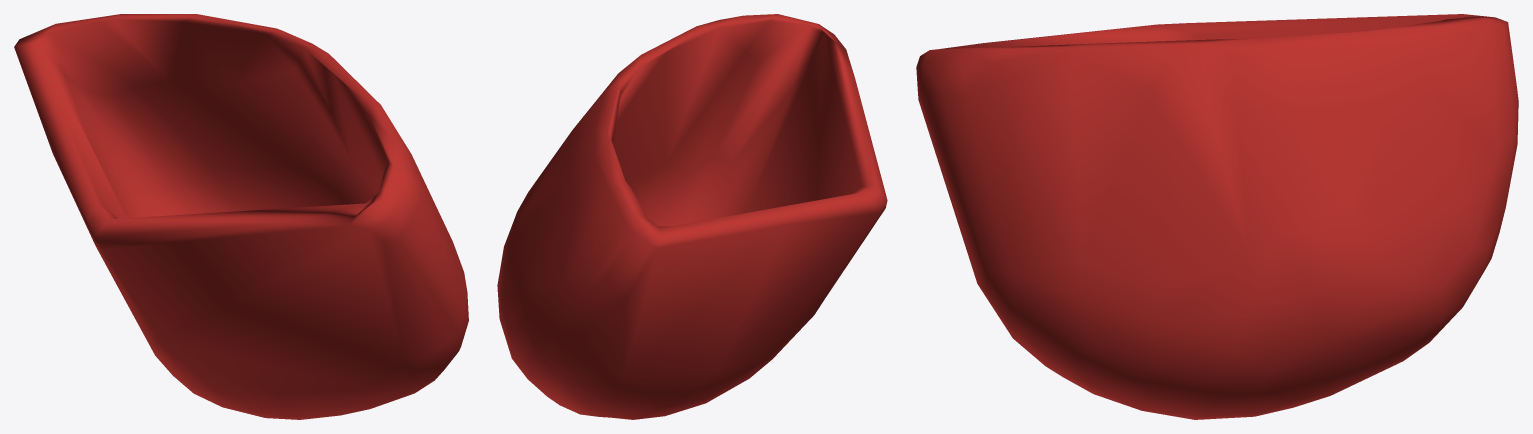
Rendered from circulatorio-left-coronary-leaflet.glb.
The picture shows the model from 3 angles, left to right: view 1: azimuth 30°, elevation 25°; view 2: azimuth 150°, elevation 25°; view 3: azimuth 270°, elevation 25°; orthographic projection. The views are drawn at different scales.
Parts seen in each view (by area): view 1: Left coronary leaflet; view 2: Left coronary leaflet; view 3: Left coronary leaflet.
Boxes of the visible parts, box(x1,y1,x2,y2) form: Left coronary leaflet: box(14, 14, 468, 419); Left coronary leaflet: box(497, 14, 887, 419); Left coronary leaflet: box(916, 14, 1518, 419).
Size of the model in its own units: 0.0148 by 0.014 by 0.0204.
